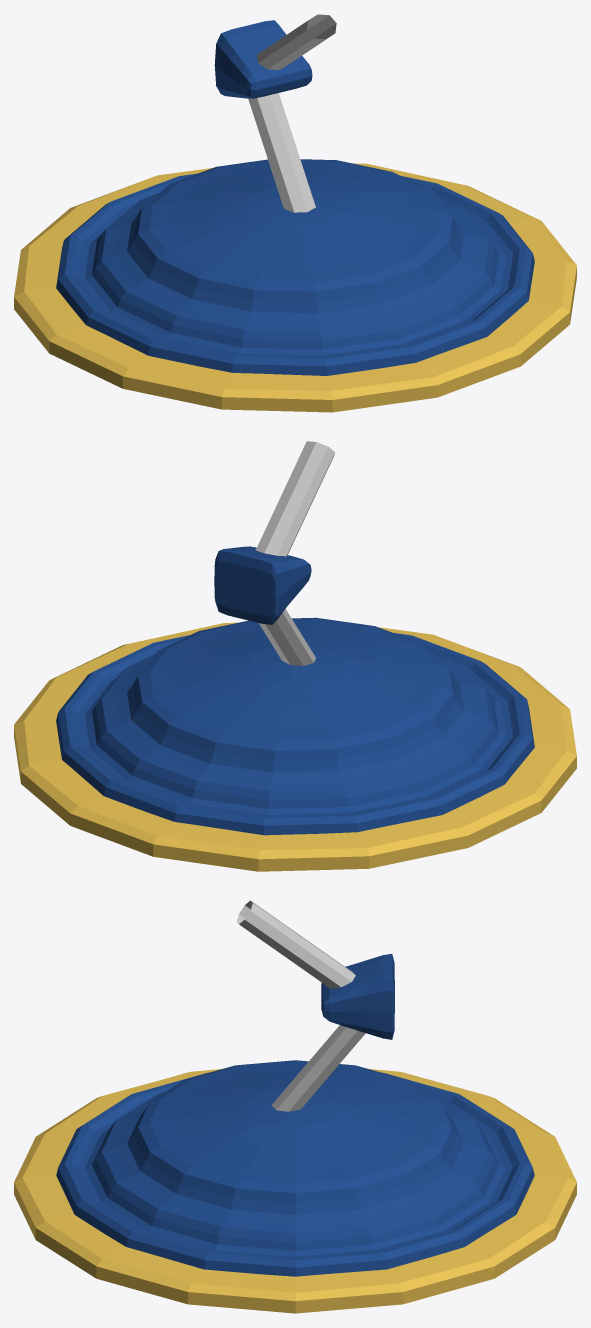
Rendered from lightning_gun_holder.fbx.
3 views of the same model, one above another, from view 1: azimuth 30°, elevation 25°; view 2: azimuth 150°, elevation 25°; view 3: azimuth 270°, elevation 25° (orthographic).
Visible parts, largest first — view 1: Lightning Holder; view 2: Lightning Holder; view 3: Lightning Holder.
Part boxes in pixels (x1,y1,x2,y2): Lightning Holder: (14,14,576,412); Lightning Holder: (14,441,576,871); Lightning Holder: (14,900,576,1313).
Size of the model in its own units: 293 by 167 by 293.
